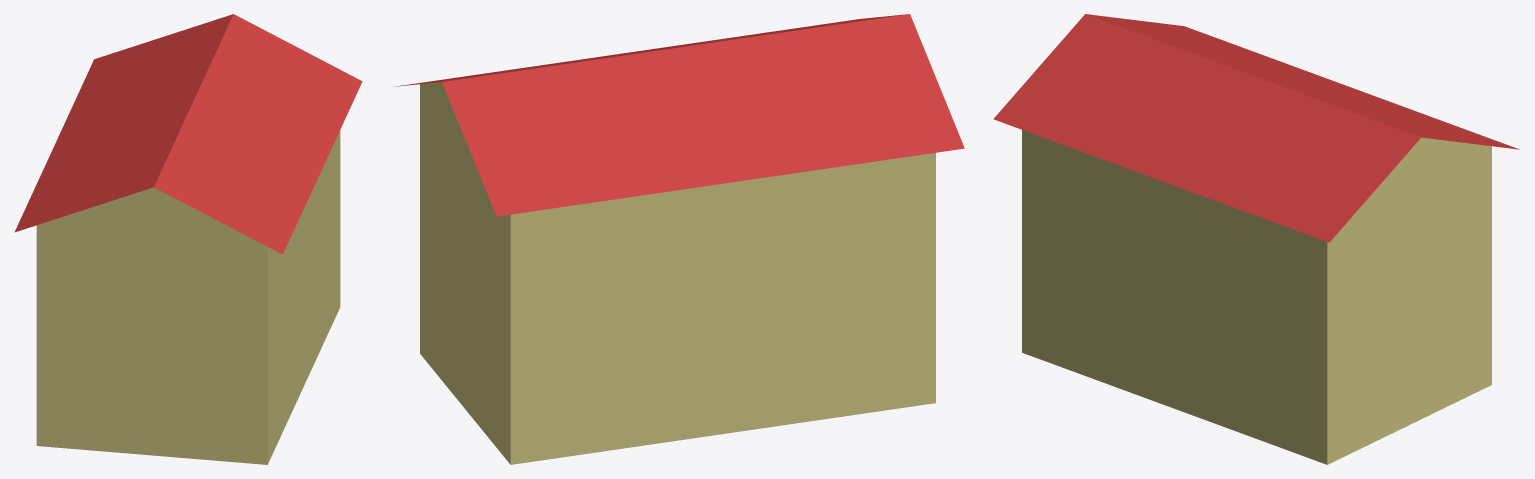
3 views of the same model, side by side, from view 1: azimuth 30°, elevation 25°; view 2: azimuth 150°, elevation 25°; view 3: azimuth 270°, elevation 25° (orthographic). The views are drawn at different scales.
Visible parts, largest first — view 1: group_5, group_3, group_4; view 2: group_5, group_3, group_4; view 3: group_5, group_3, group_4.
Boxes of the visible parts, x1,y1,x2,y2 form: group_5: (36, 130, 340, 464); group_3: (37, 14, 362, 236); group_4: (14, 14, 361, 254); group_5: (420, 82, 935, 464); group_3: (393, 14, 935, 195); group_4: (442, 14, 964, 216); group_5: (1022, 130, 1491, 464); group_3: (1022, 14, 1490, 242); group_4: (993, 14, 1519, 242).
Bounding box in the file's own units: 18.83 × 19.39 × 11.96.
